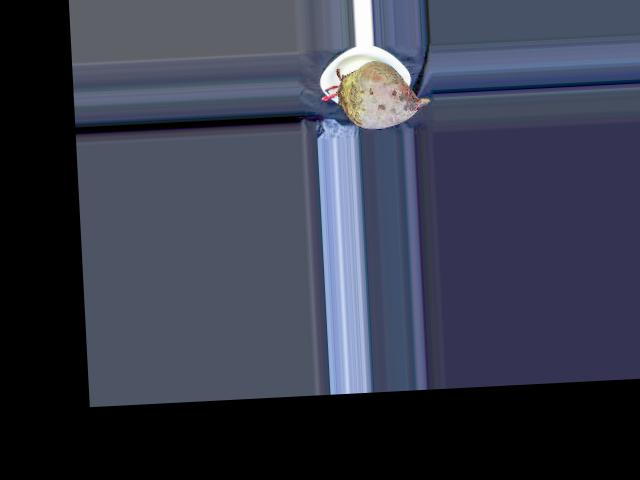beet: (319, 58, 429, 130)
